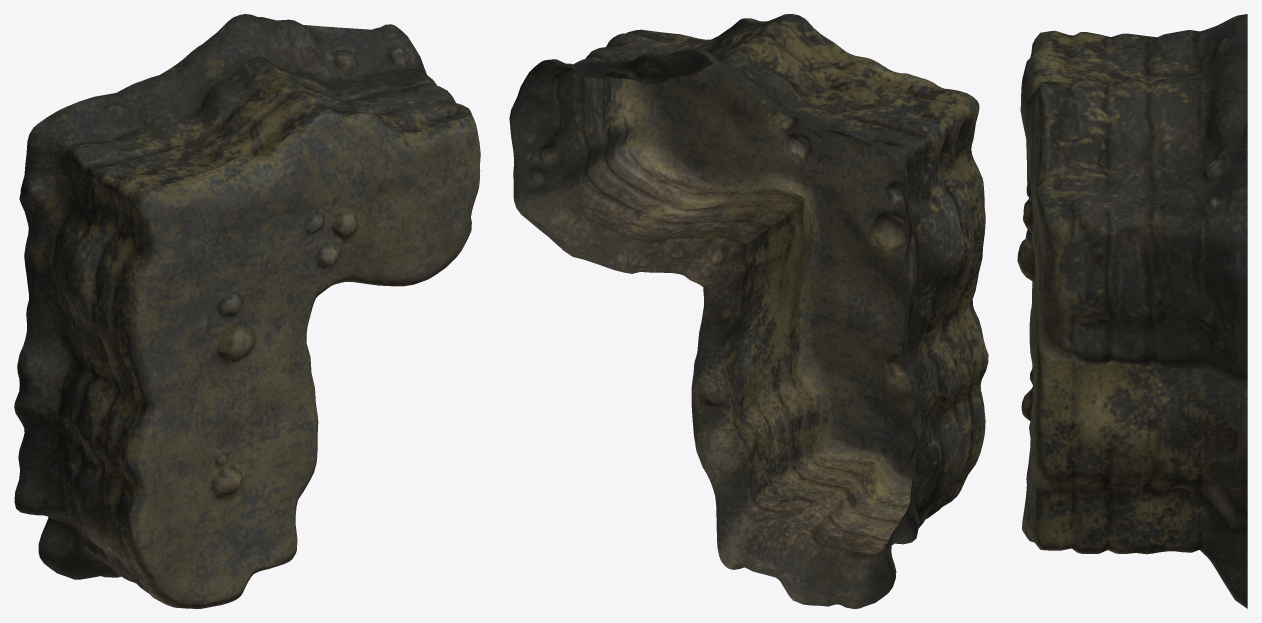
The model's file is rock_cliff_03.obj.
3 views of the same model, side by side, from view 1: azimuth 30°, elevation 25°; view 2: azimuth 150°, elevation 25°; view 3: azimuth 270°, elevation 25° (orthographic). The views are drawn at different scales.
Visible parts, largest first — view 1: rock_cliff_03; view 2: rock_cliff_03; view 3: rock_cliff_03.
Part boxes in pixels (<box>): rock_cliff_03: <box>14,14,480,608</box>; rock_cliff_03: <box>509,14,988,608</box>; rock_cliff_03: <box>1017,14,1247,608</box>.
Bounding box in the file's own units: 20.64 × 25.45 × 9.
1 material, 1 textured.
